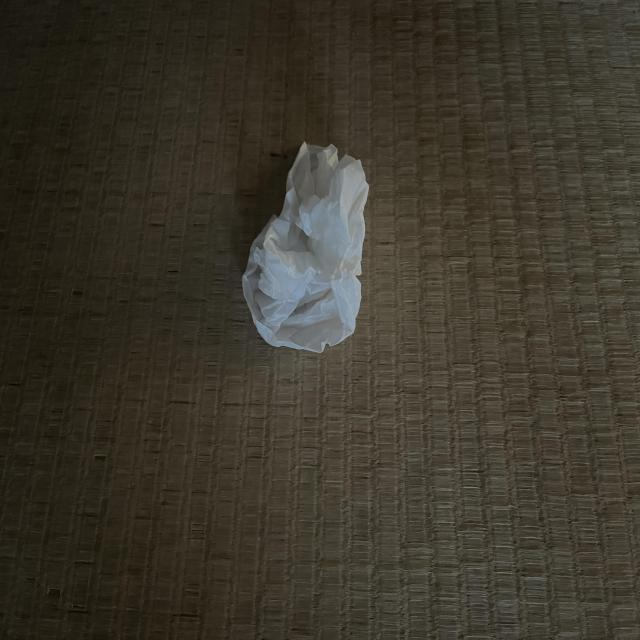Paper: (230, 140, 376, 352)
